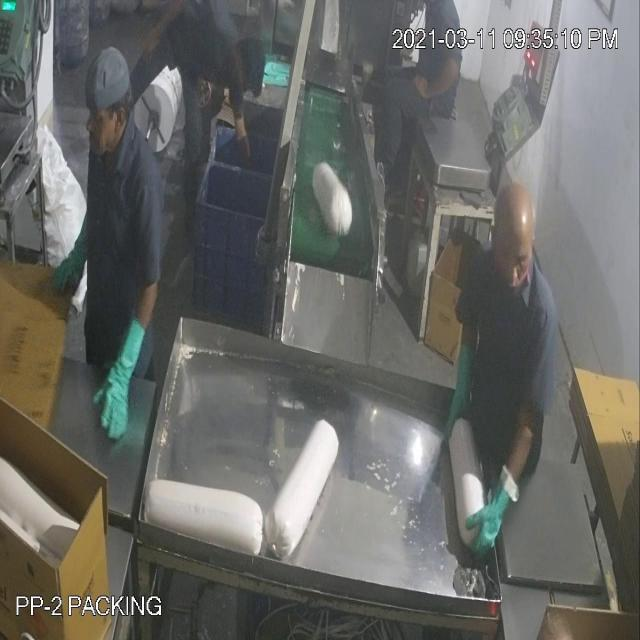No_Gloves: (34, 55, 498, 526)
